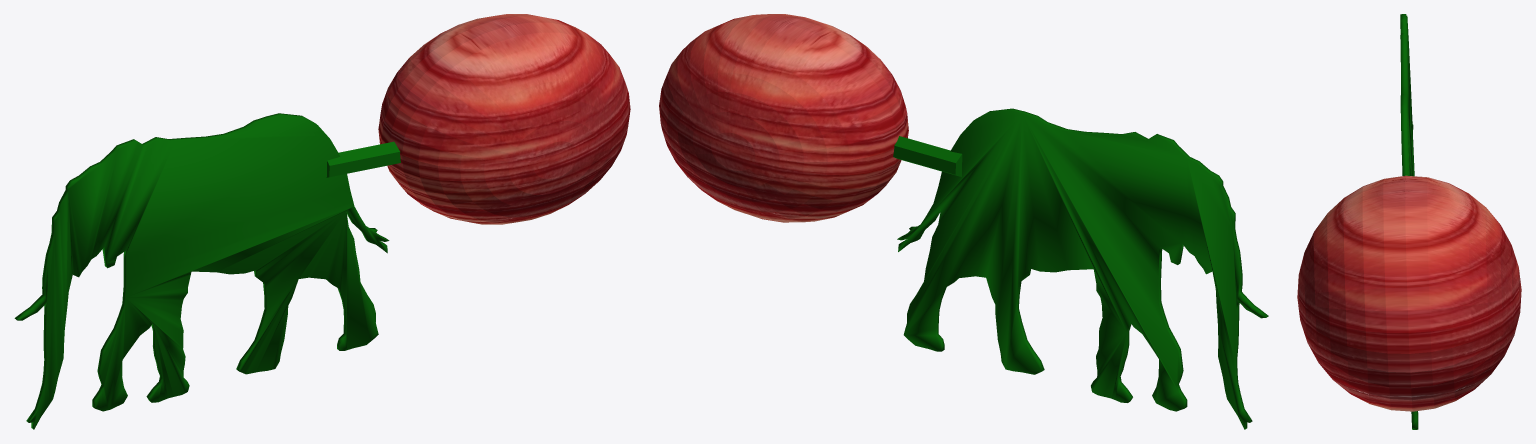
The model's file is lollypop.glb.
The picture shows the model from 3 angles, left to right: view 1: azimuth 30°, elevation 25°; view 2: azimuth 150°, elevation 25°; view 3: azimuth 270°, elevation 25°; orthographic projection. The views are drawn at different scales.
Visible parts, largest first — view 1: Sphere; view 2: Sphere; view 3: Sphere.
Boxes of the visible parts, x1,y1,x2,y2 form: Sphere: [14, 14, 630, 429]; Sphere: [659, 14, 1268, 429]; Sphere: [1297, 14, 1521, 429].
Bounding box in the file's own units: 5.18 × 2.41 × 1.55.
2 materials, 1 textured.
